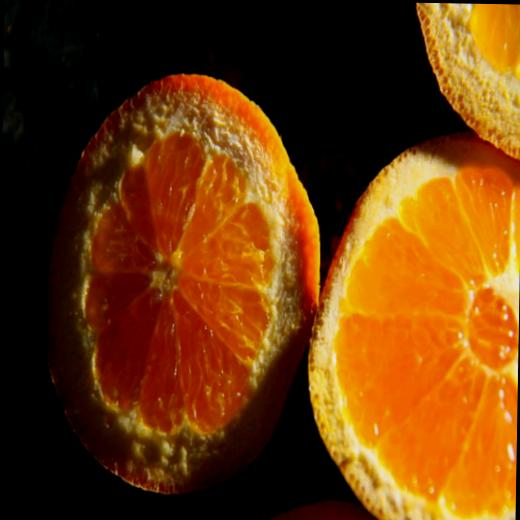Grape: (37, 69, 320, 492), (306, 133, 520, 520), (420, 2, 520, 163)
